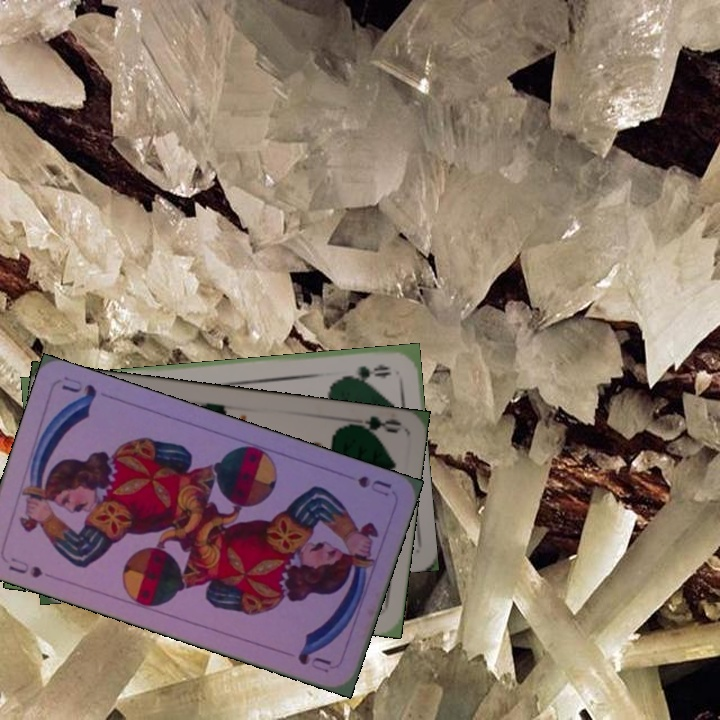GO: (342, 411, 402, 440), (337, 360, 394, 383)
SU: (353, 471, 394, 500), (4, 553, 45, 581)
